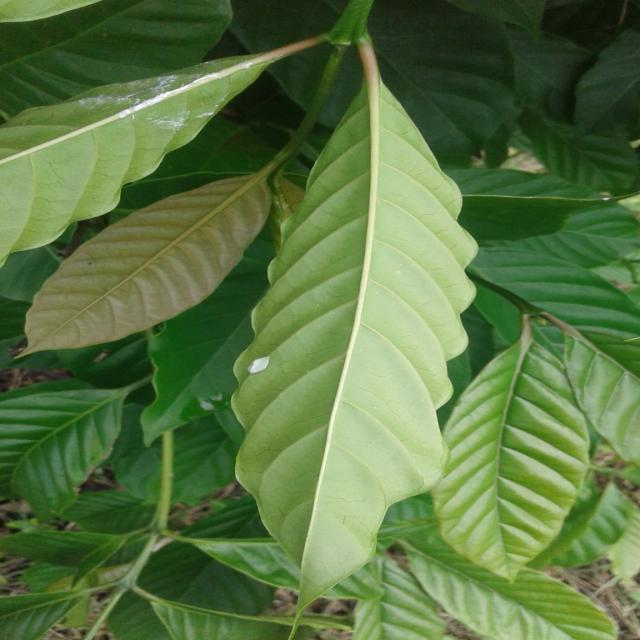Sanas: (228, 45, 479, 607)
